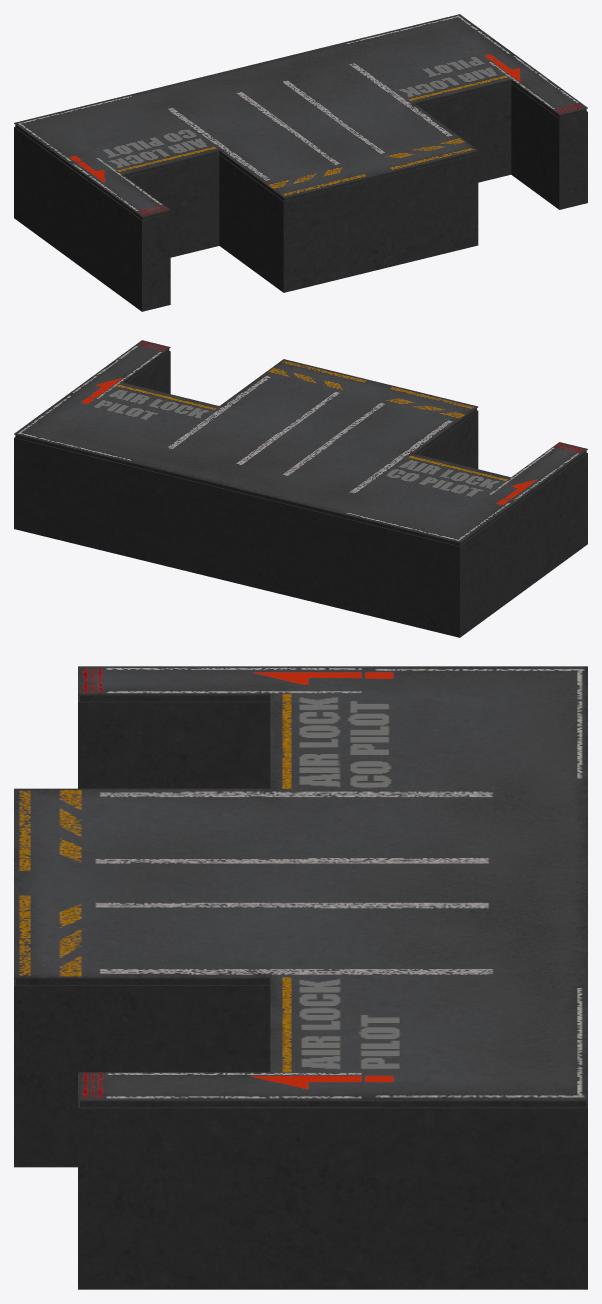
File: ARKBIRD_III_PORT.fbx
3 views of the same model, one above another, from view 1: azimuth 30°, elevation 25°; view 2: azimuth 150°, elevation 25°; view 3: azimuth 270°, elevation 25° (orthographic). The views are drawn at different scales.
Visible parts, largest first — view 1: ARKIII_PORT; view 2: ARKIII_PORT; view 3: ARKIII_PORT.
Part boxes in pixels (bbox=[...]): ARKIII_PORT: bbox=[14, 14, 587, 311]; ARKIII_PORT: bbox=[14, 340, 587, 637]; ARKIII_PORT: bbox=[14, 666, 587, 1289].
Bounding box in the file's own units: 49.01 × 10 × 27.42.
Materials: 1 (1 with a texture image).
